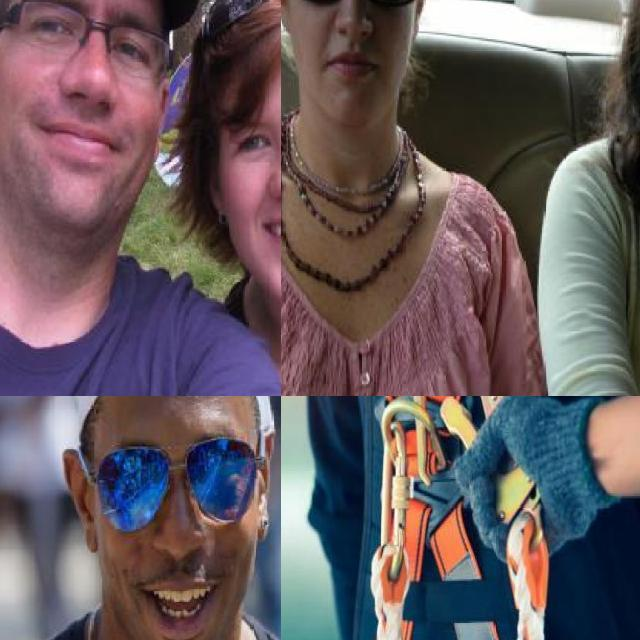Harness: (371, 396, 551, 640)
face_nomask: (12, 0, 161, 200), (106, 432, 242, 632), (281, 0, 418, 101), (231, 110, 281, 266)
glasses: (80, 417, 274, 539), (12, 0, 172, 84), (204, 0, 281, 44)
head_nohelmet: (193, 0, 281, 77)
person: (281, 0, 526, 396), (526, 0, 640, 396)
